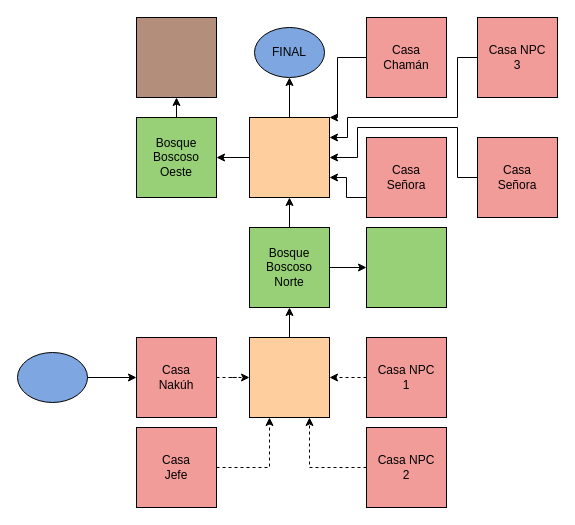
Image size: 575x525. Some labels were removed from this diagram. The shapes that lost their labels are listed below. From the top down, each one's centre as x and y in pixels, then its label:
At point 176,57: "Cueva".
At point 289,157: "Pueblito Alegre".
At point 406,267: "Bosque Boscoso Este".
At point 52,377: "INICIO".
At point 289,377: "Pueblo Nakúh".
